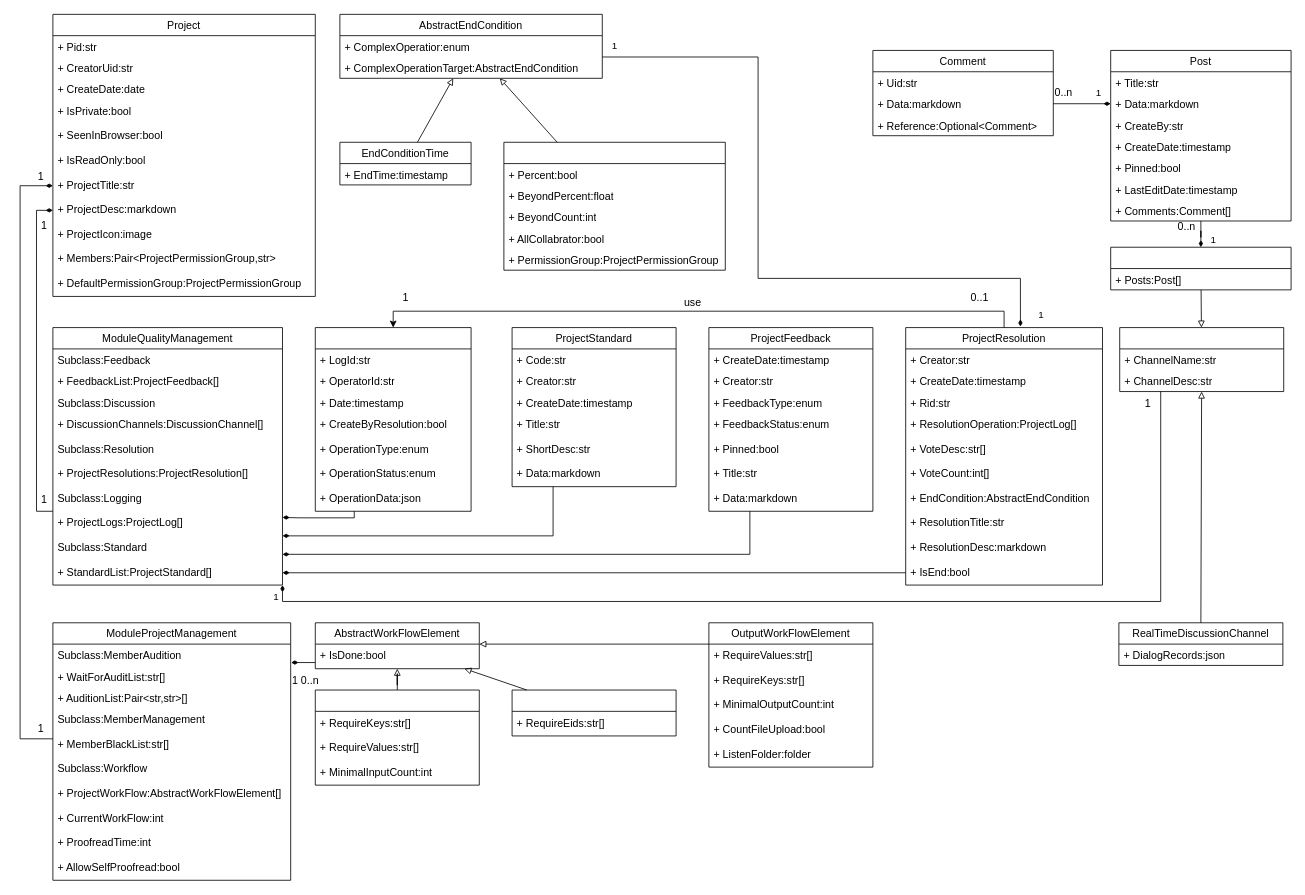
This 1305x895 diagram has some shape labels left out. Each missing label, with the box of its shape:
AbstractDiscussionChannel: (1119, 327, 1284, 392)
EndConditionCount: (503, 141, 725, 270)
InputWorkFlowElement: (314, 689, 479, 785)
PostDiscussionChannel: (1110, 246, 1291, 290)
ProjectLog: (314, 327, 471, 511)
TranslateWorkFlowElement: (511, 689, 676, 736)
